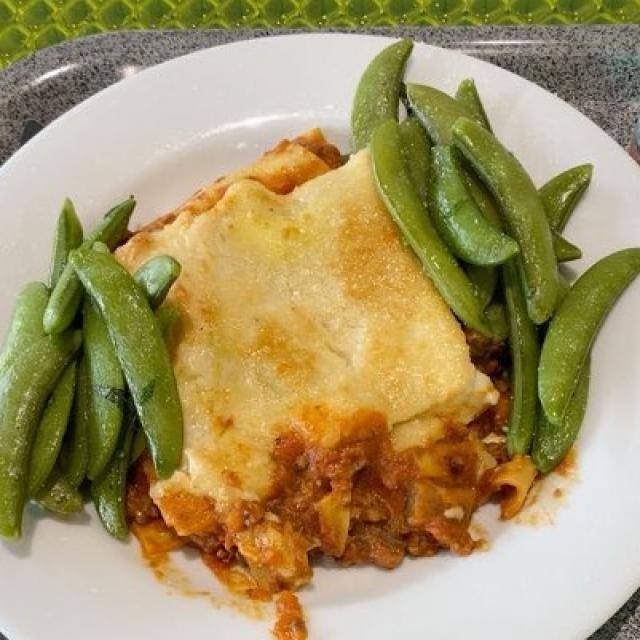lasagne-meat-prepared: (106, 120, 545, 606)
